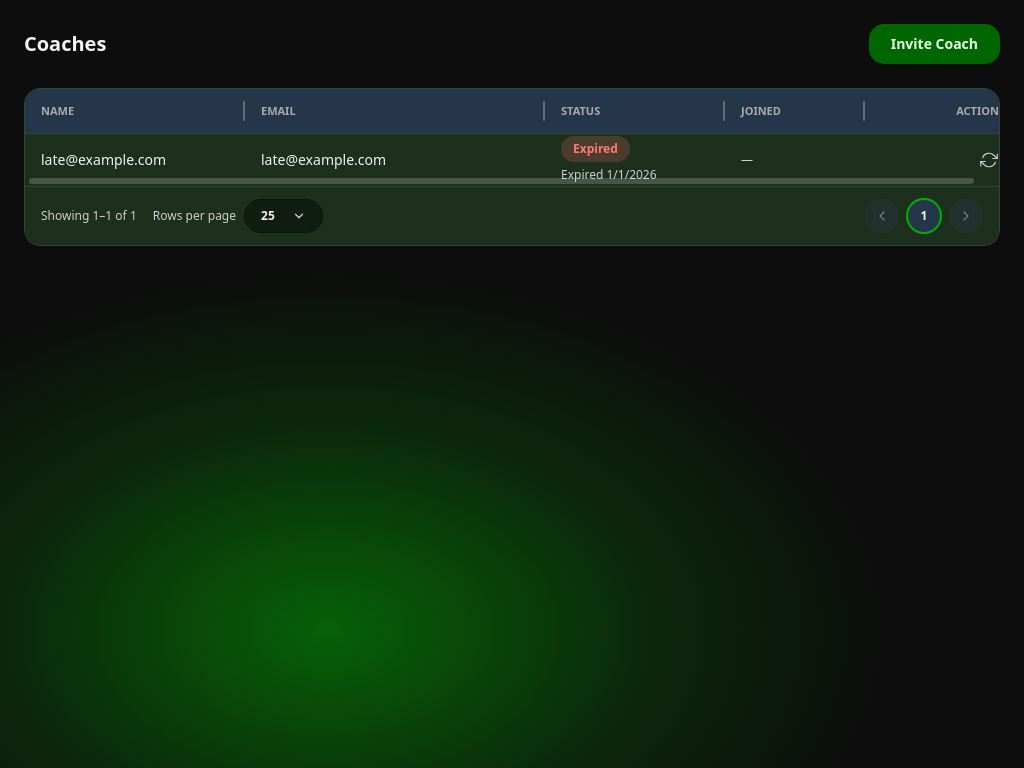
CoachesPage › resends an invite via POST /coaches/invites/:id/resend (not a fresh invite) and refreshes the roster
Expected: the 1st text "late@example.com" is shown, left=41, top=149, right=166, bottom=171
Click the button named "resend invite".
click(989, 160)  # box left=973, top=144, right=1005, bottom=176
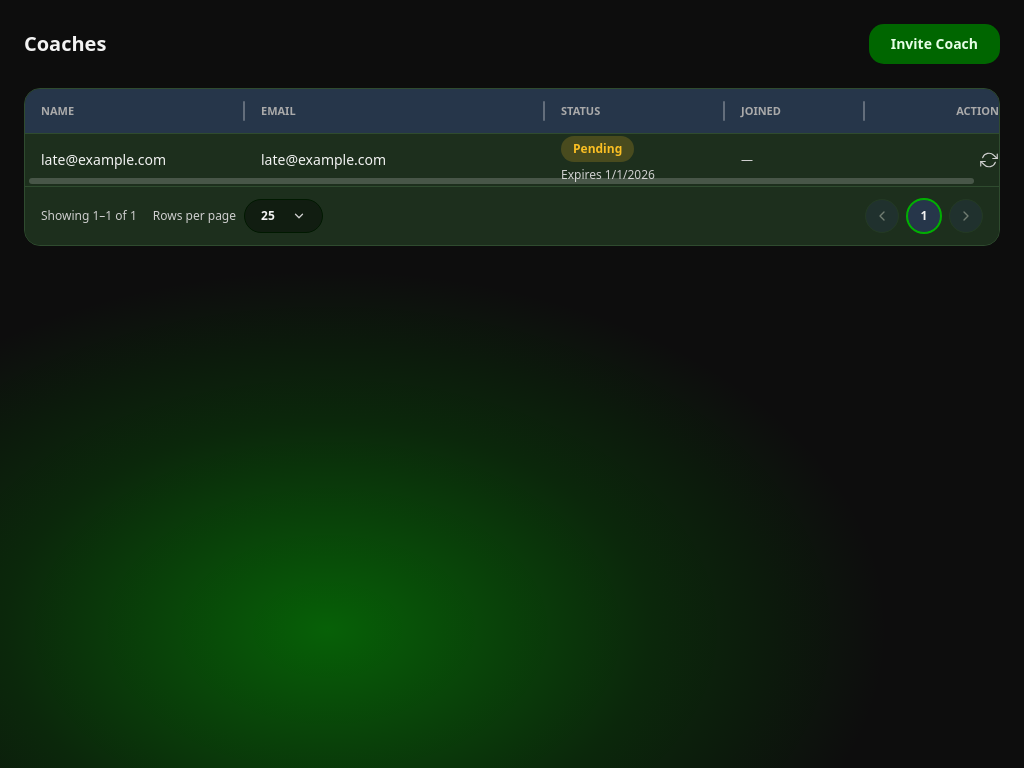
Expected: the text "Pending" is shown, left=561, top=136, right=634, bottom=162
